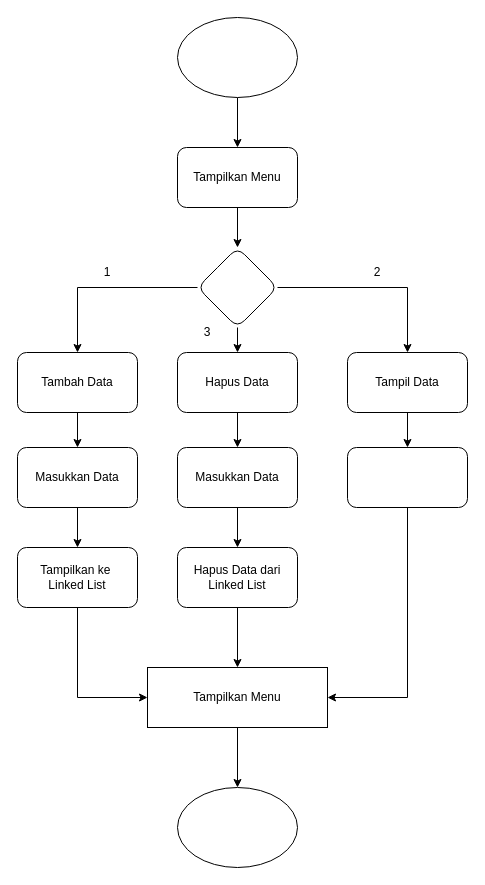
This 485x885 diagram has some shape labels left out. The centre of each missing label's shape, as x and y in pixels:
Mulai: [237,57]
Pilih Menu: [237,287]
Selesai: [237,827]
Tampil Data di Linked List: [407,477]
